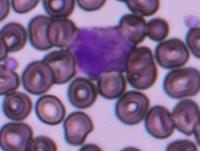B: (69, 25, 133, 78)
